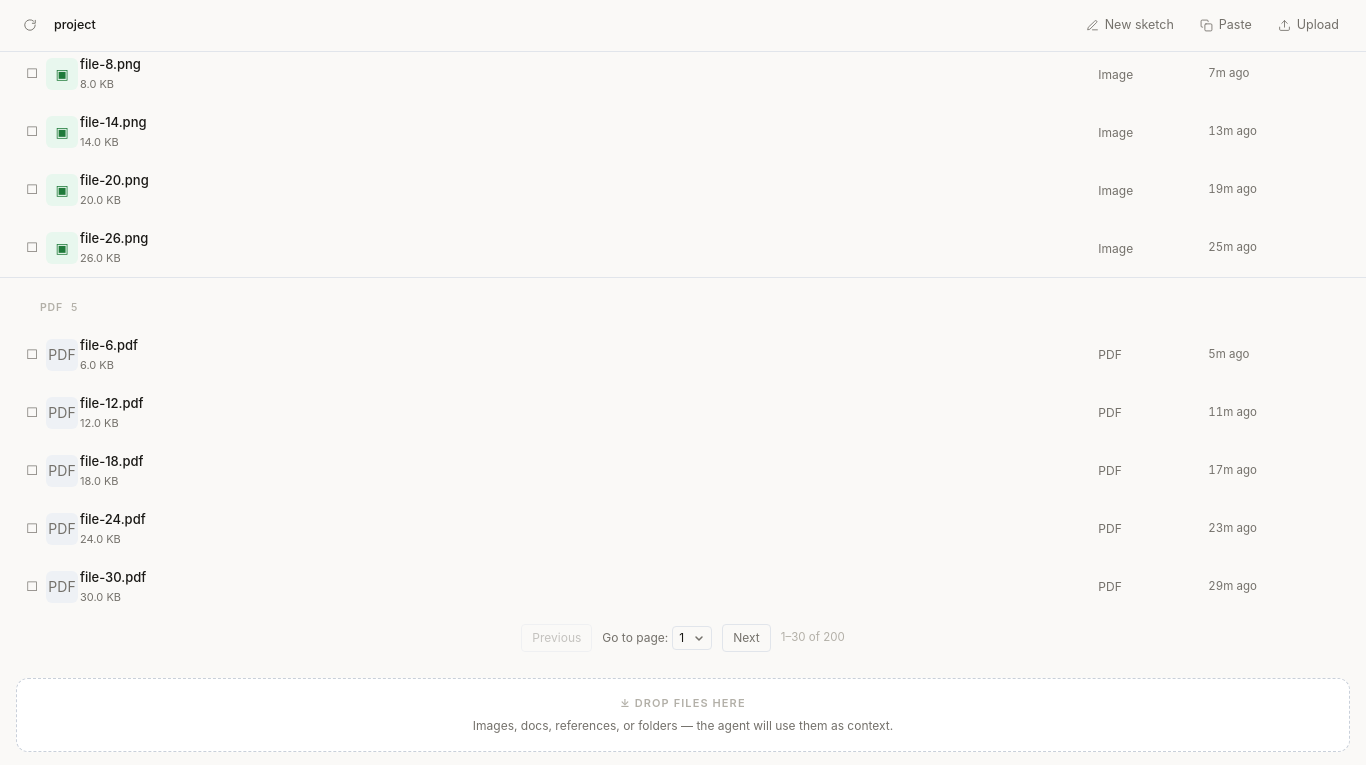
Test case: DesignFilesPanel large-list regression › jumps to a specific page via page dropdown at bottom
The image size is (1366, 765).
(page scrolled)
Select "4" in the dropdown labelled "Go to page:" at coordinates (692, 638), box 672,626 -> 712,650
(page scrolled)
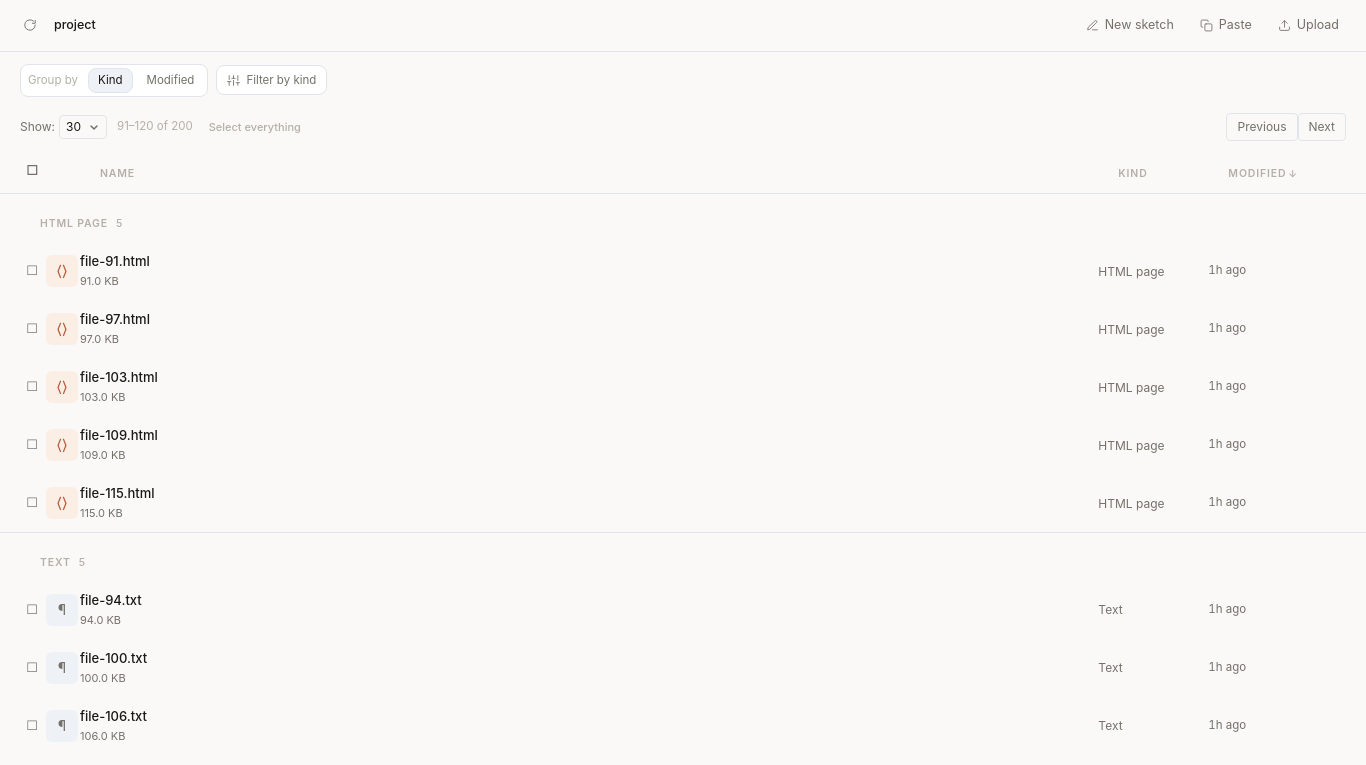
Expected: the row with class "df-file-row" shows "file-91", 80,252 -> 150,290
